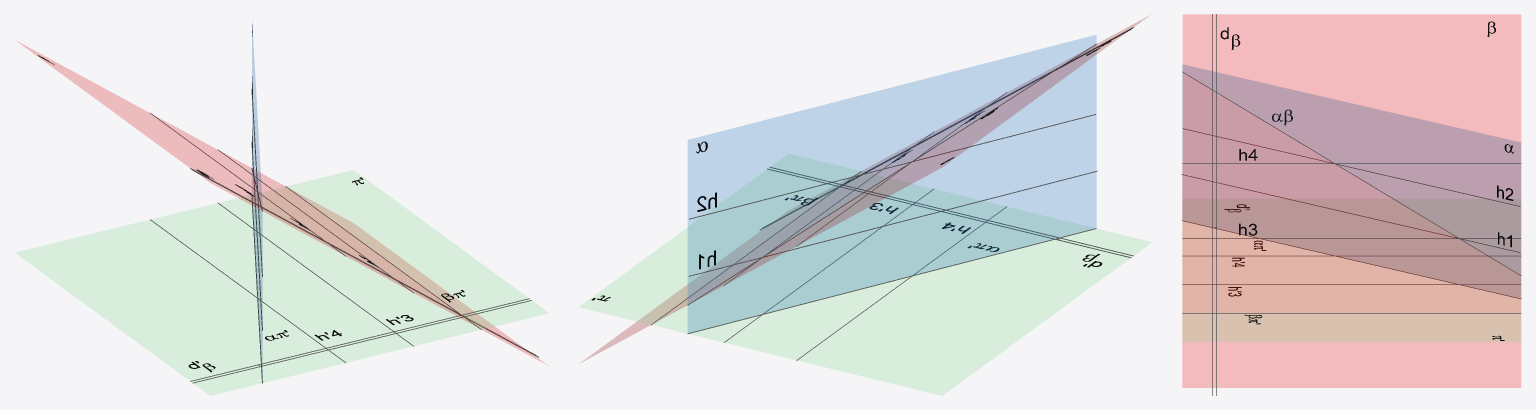
The model's file is int_pq_pvN.glb.
3 renders of one model, left to right at view 1: azimuth 30°, elevation 25°; view 2: azimuth 150°, elevation 25°; view 3: azimuth 270°, elevation 25°, orthographic. The views are drawn at different scales.
Visible parts, largest first — view 1: root, Pipe (×3); view 2: root, Pipe (×7); view 3: root, Pipe (×11).
Boxes of the visible parts, <box> form: root: <box>15,25,547,395</box>; Pipe (×3): <box>190,170,538,383</box>; root: <box>580,17,1151,395</box>; Pipe (×7): <box>687,29,1133,333</box>; root: <box>1182,14,1521,387</box>; Pipe (×11): <box>1181,14,1521,395</box>.
Bounding box in the file's own units: 2.6 × 1.95 × 2.55.
